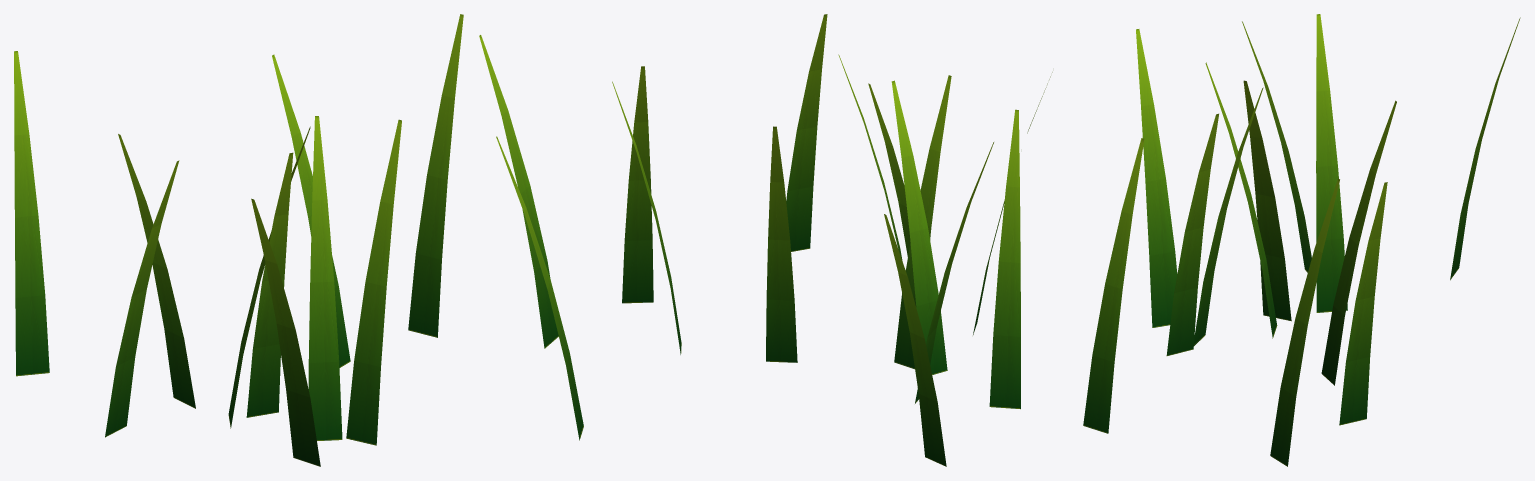
The model's file is grass-tuft.glb.
3 renders of one model, left to right at view 1: azimuth 30°, elevation 25°; view 2: azimuth 150°, elevation 25°; view 3: azimuth 270°, elevation 25°, orthographic. The views are drawn at different scales.
Visible parts, largest first — view 1: Supplied grass tuft; view 2: Supplied grass tuft; view 3: Supplied grass tuft.
Boxes of the visible parts, x1,y1,x2,y2 form: Supplied grass tuft: [14, 14, 583, 466]; Supplied grass tuft: [612, 14, 1052, 466]; Supplied grass tuft: [1083, 14, 1520, 466].
Bounding box in the file's own units: 0.209 × 0.13 × 0.1943.
Materials: 1 (1 with a texture image).
